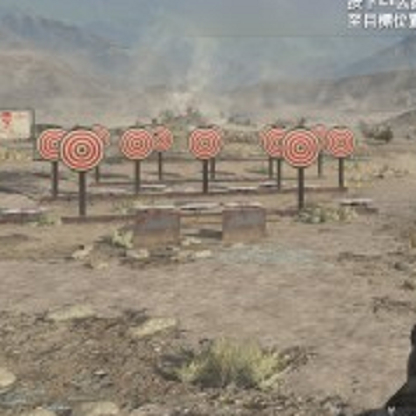target: (58, 128, 104, 170), (282, 128, 316, 166)
